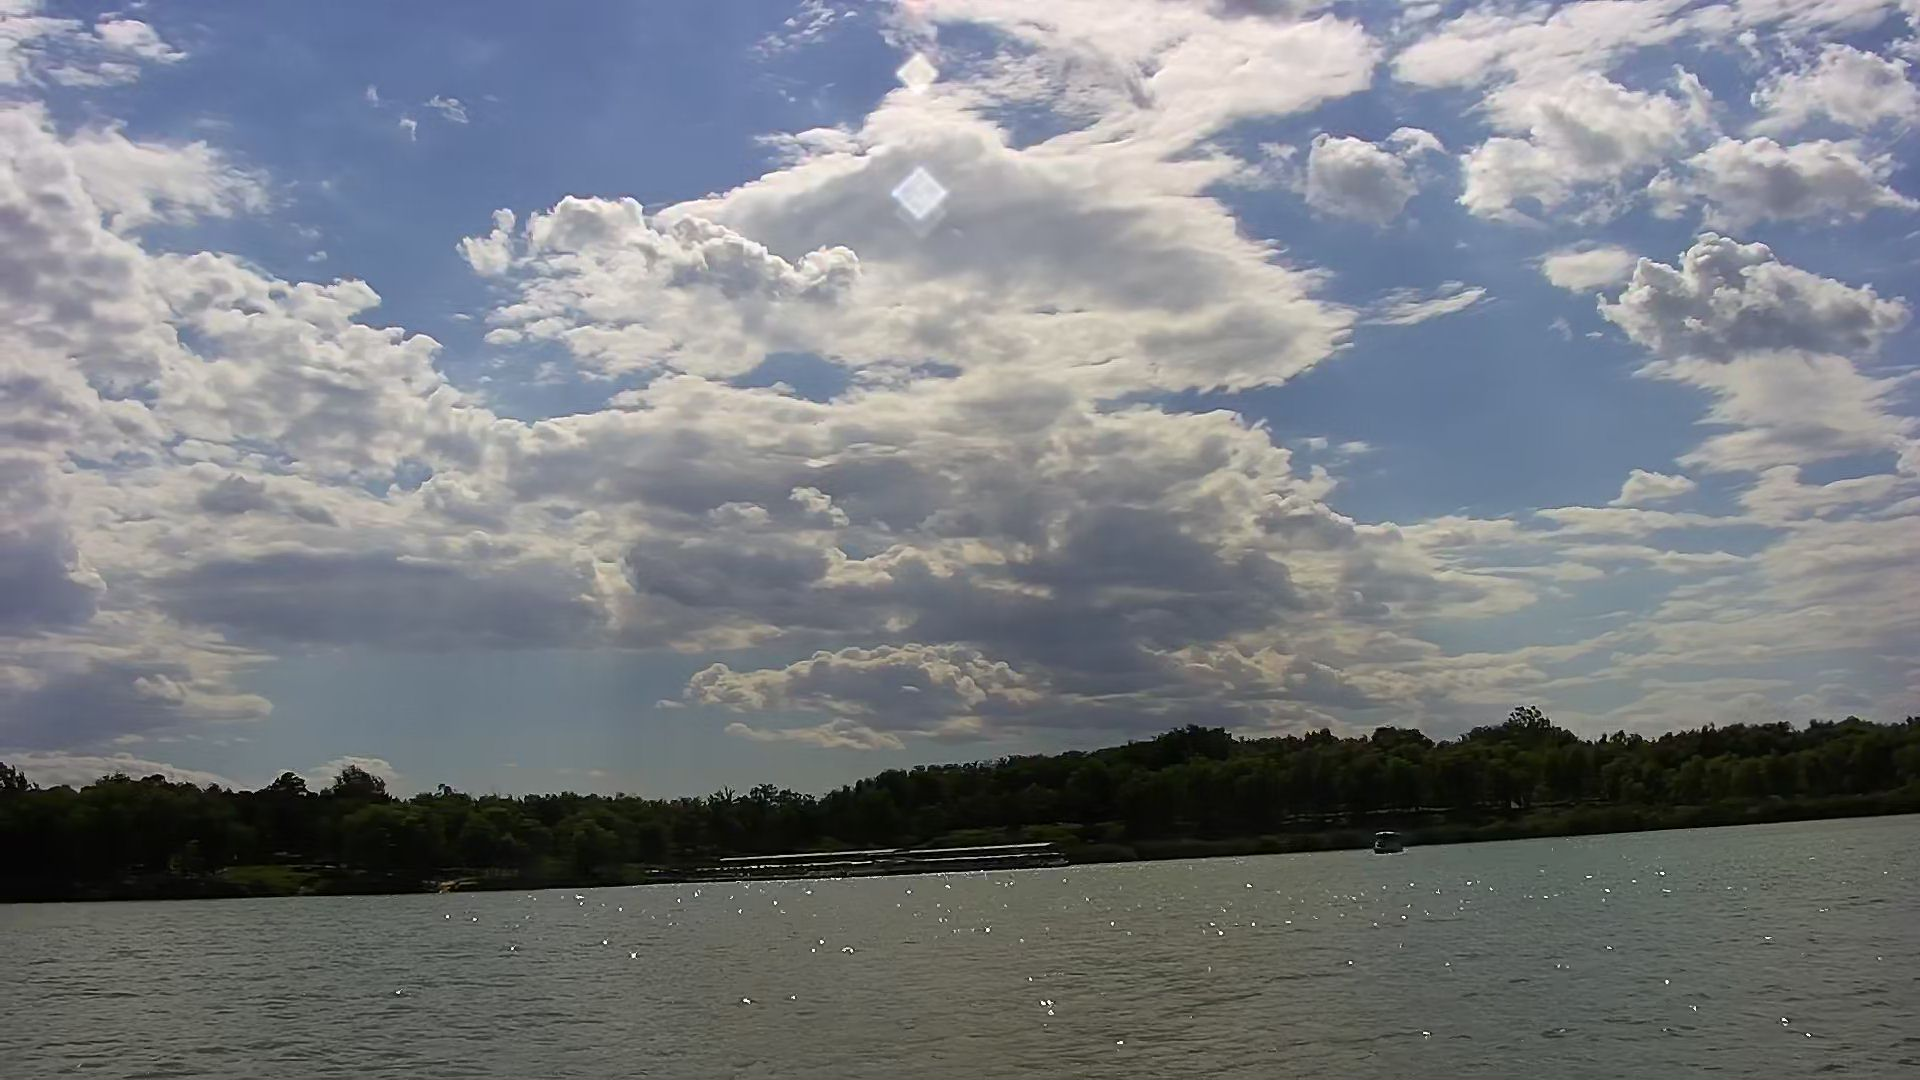boat: (1369, 819, 1408, 855)
harbor: (699, 831, 1068, 885)
